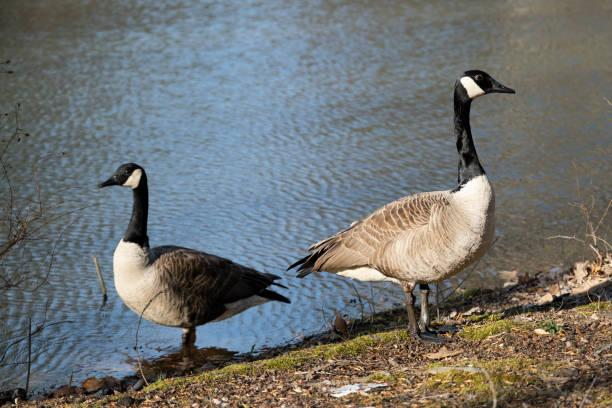Canadian-Goose: (293, 64, 516, 322), (96, 161, 284, 348)
